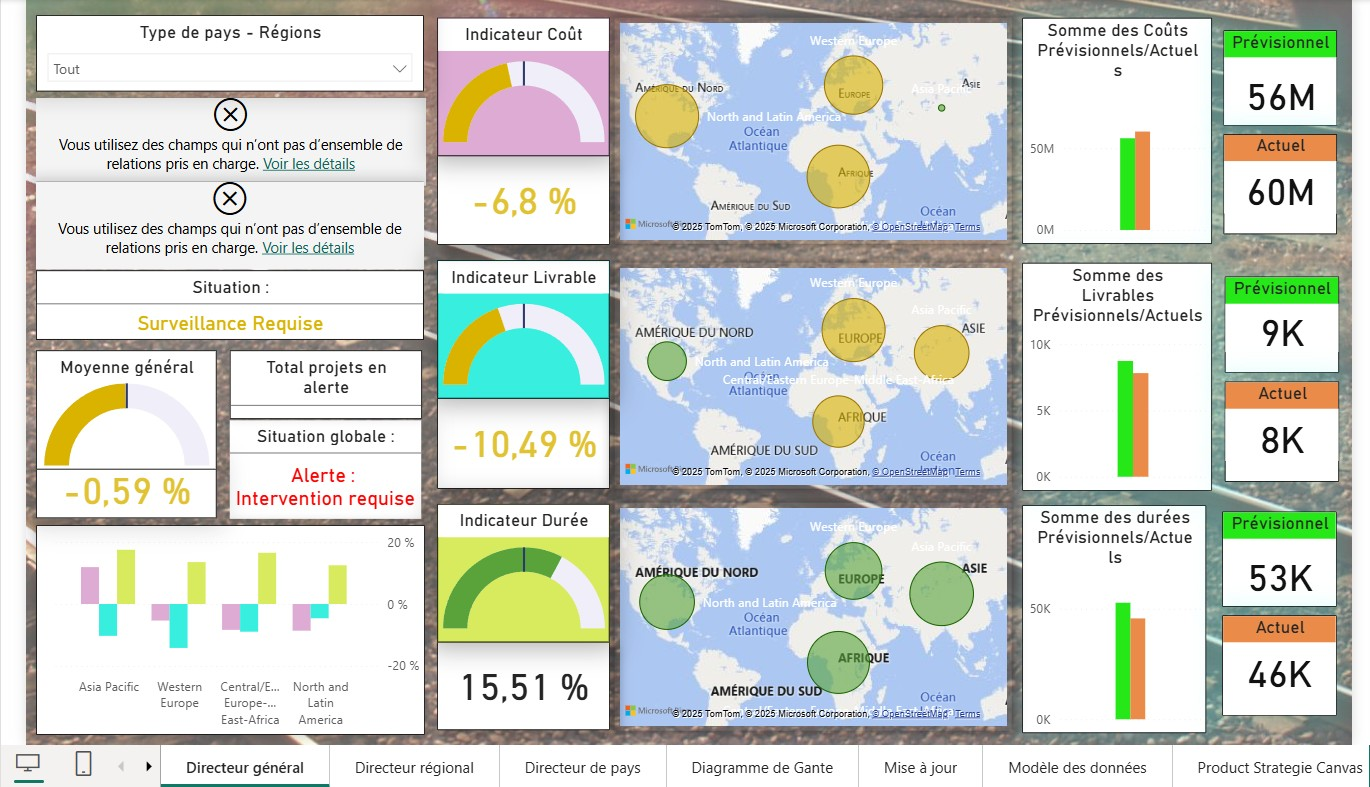

What the dashboard file says about the page in this screenshot:
{"tool":"powerbi","page":{"name":"Directeur général","canvas":[1280,720],"ordinal":0},"visuals":[{"type":"slicer","title":"Type de projets - Régions","fields":{"Values":["Project type.Project Type","Country_Location.Region"]},"box":[9.2,95.2,375.7,75.1],"z":0},{"type":"clusteredColumnChart","title":"Somme des Coûts Prévisionnels/Actuels","fields":{"Y":["Sum(Data Par Projet.Planned Cost Par Projet)","Sum(Data Par Projet.Actual Cost Par Projet)"]},"box":[961,18.6,183.1,218.6],"z":1000},{"type":"card","title":"Indicateur Livrable","fields":{"Values":["Projects_plans.Indicateur Livrable"]},"box":[396.6,384.7,166.1,88.1],"z":2000},{"type":"clusteredColumnChart","title":"Somme des durées Prévisionnels/Actuels","fields":{"Y":["Projects_plans.SommeDuréePrévisionnels","Actual Duration.SommeDuréeActuel"]},"box":[961,488.1,178,220.3],"z":3000},{"type":"clusteredColumnChart","title":"Somme des Livrables Prévisionnels/Actuels","fields":{"Y":["Projects_plans.SommeLivrablesPrévisionnels","Actual Delivrables.SommeLivrablesActuels"]},"box":[961,254.2,183.1,220.3],"z":4000},{"type":"map","fields":{"Size":["Projects_plans.TailleCoût"],"Category":["Country_Location.Region"]},"box":[567.8,18.6,383.1,218.6],"z":5000},{"type":"card","title":"Situation globale :","fields":{"Values":["Data Par Projet.IndicateurAlerteStatique"]},"box":[196.4,406.5,185.1,95.1],"z":6000},{"type":"map","fields":{"Size":["Projects_plans.TailleLivrablme"],"Category":["Country_Location.Region"]},"box":[567.8,254.2,383.1,218.6],"z":7000},{"type":"map","fields":{"Size":["Projects_plans.TailleDurée"],"Category":["Country_Location.Region"]},"box":[567.8,486.4,383.1,220.3],"z":8000},{"type":"slicer","title":"Alertes par Régions","fields":{"Values":["Country_Location.Region","Data Par Projet.AlerteParProjet"]},"box":[9.2,176.4,374.2,78.2],"z":9000},{"type":"gauge","title":"Indicateur Livrable","fields":{"Y":["Projects_plans.Indicateur Livrable Valeur"]},"box":[396.6,252.5,166.1,133.9],"z":10000},{"type":"card","title":"Indicateur Livrable","fields":{"Values":["Projects_plans.Indicateur Coûts"]},"box":[396.6,150.8,166.1,86.4],"z":11000},{"type":"gauge","title":"Indicateur Coût","fields":{"Y":["Projects_plans.Indicateur Coûts Valeur"]},"box":[396.6,18.6,166.1,133.9],"z":12000},{"type":"card","title":"Indicateur Livrable","fields":{"Values":["Projects_plans.Indicateur Durée"]},"box":[397.3,620.5,166.2,85.5],"z":13000},{"type":"gauge","title":"Indicateur Durée","fields":{"Y":["Projects_plans.Indicateur Durée Valeur"]},"box":[396.5,487.2,166.3,133.7],"z":14000},{"type":"slicer","title":"Type de pays - Régions","fields":{"Values":["Country_Location.Type","Country_Location.Region"]},"box":[9.2,15.3,374.2,73.6],"z":15000},{"type":"card","title":"Total projets en alerte","fields":{"Values":["Data Par Projet.NombreProjetsAlerteSansFiltre"]},"box":[196.3,338.7,185.2,66.5],"z":16000},{"type":"card","title":"Situation :","fields":{"Values":["Projects_plans.IndicateurAlerteParPhases"]},"box":[9.6,262.1,374.2,67.5],"z":17000},{"type":"cardVisual","title":"Prévisionnel","fields":{"Data":["Projects_plans.SommeCoûtsPrévisionnels"]},"box":[1155.8,30.3,109.2,91.8],"z":18000},{"type":"cardVisual","title":"Actuel","fields":{"Data":["Actual_Costs.SommeCoûtsActuels"]},"box":[1155.8,130,109.2,96.6],"z":19000},{"type":"cardVisual","title":"Prévisionnel","fields":{"Data":["Projects_plans.SommeLivrablesPrévisionnels"]},"box":[1157.4,268,110,92.5],"z":20000},{"type":"cardVisual","title":"Actuel","fields":{"Data":["Actual Delivrables.SommeLivrablesActuels"]},"box":[1157.5,368.8,110.4,96.6],"z":21000},{"type":"cardVisual","title":"Prévisionnel","fields":{"Data":["Projects_plans.SommeDuréePrévisionnels"]},"box":[1154.6,494.9,110.4,92],"z":22000},{"type":"cardVisual","title":"Actuel","fields":{"Data":["Actual Duration.SommeDuréeActuel"]},"box":[1154.6,594.6,110.4,96.6],"z":23000},{"type":"clusteredColumnChart","fields":{"Category":["Country_Location.Region"],"Y":["Projects_plans.Indicateur Coûts","Projects_plans.Indicateur Livrable","Projects_plans.Indicateur Durée"]},"box":[9.5,508.1,375.2,202.6],"z":24000},{"type":"card","title":"Indicateur Livrable","fields":{"Values":["Projects_plans.Indicateur Moyenne"]},"box":[9.5,448,174.1,53.8],"z":25000},{"type":"gauge","title":"Moyenne général","fields":{"Y":["Projects_plans.Indicateur Moyenne Valeur"]},"box":[9.5,338.7,174.1,115.6],"z":26000}]}

Visuals, with their boxes on the page's 1280x720 design canvas (x1, y1, x2, y2). These are canvas units, not pixel positions in the 1370x787 screenshot, which may show the page scaled, cropped or inside an application window:
"Type de projets - Régions" slicer: [left=9, top=95, right=385, bottom=170]
"Somme des Coûts Prévisionnels/Actuels" clusteredColumnChart: [left=961, top=19, right=1144, bottom=237]
"Indicateur Livrable" card: [left=397, top=385, right=563, bottom=473]
"Somme des durées Prévisionnels/Actuels" clusteredColumnChart: [left=961, top=488, right=1139, bottom=708]
"Somme des Livrables Prévisionnels/Actuels" clusteredColumnChart: [left=961, top=254, right=1144, bottom=474]
map - Projects_plans.TailleCoût x Country_Location.Region: [left=568, top=19, right=951, bottom=237]
"Situation globale :" card: [left=196, top=406, right=382, bottom=502]
map - Projects_plans.TailleLivrablme x Country_Location.Region: [left=568, top=254, right=951, bottom=473]
map - Projects_plans.TailleDurée x Country_Location.Region: [left=568, top=486, right=951, bottom=707]
"Alertes par Régions" slicer: [left=9, top=176, right=383, bottom=255]
"Indicateur Livrable" gauge: [left=397, top=252, right=563, bottom=386]
"Indicateur Livrable" card: [left=397, top=151, right=563, bottom=237]
"Indicateur Coût" gauge: [left=397, top=19, right=563, bottom=152]
"Indicateur Livrable" card: [left=397, top=620, right=564, bottom=706]
"Indicateur Durée" gauge: [left=396, top=487, right=563, bottom=621]
"Type de pays - Régions" slicer: [left=9, top=15, right=383, bottom=89]
"Total projets en alerte" card: [left=196, top=339, right=382, bottom=405]
"Situation :" card: [left=10, top=262, right=384, bottom=330]
"Prévisionnel" cardVisual: [left=1156, top=30, right=1265, bottom=122]
"Actuel" cardVisual: [left=1156, top=130, right=1265, bottom=227]
"Prévisionnel" cardVisual: [left=1157, top=268, right=1267, bottom=360]
"Actuel" cardVisual: [left=1158, top=369, right=1268, bottom=465]
"Prévisionnel" cardVisual: [left=1155, top=495, right=1265, bottom=587]
"Actuel" cardVisual: [left=1155, top=595, right=1265, bottom=691]
clusteredColumnChart - Country_Location.Region x Projects_plans.Indicateur Coûts: [left=10, top=508, right=385, bottom=711]
"Indicateur Livrable" card: [left=10, top=448, right=184, bottom=502]
"Moyenne général" gauge: [left=10, top=339, right=184, bottom=454]
